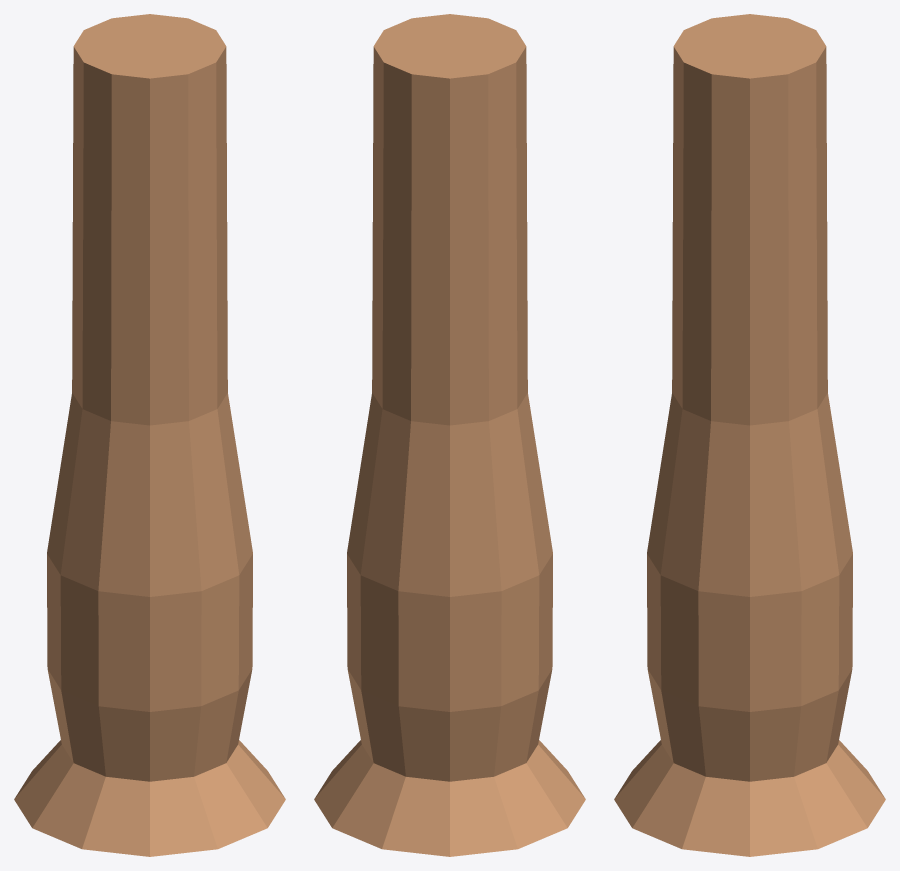
Rendered from pillar.fbx.
The picture shows the model from 3 angles, left to right: view 1: azimuth 30°, elevation 25°; view 2: azimuth 150°, elevation 25°; view 3: azimuth 270°, elevation 25°; orthographic projection.
Parts seen in each view (by area): view 1: Cylinder; view 2: Cylinder; view 3: Cylinder.
Boxes of the visible parts, x1=… form: Cylinder: x1=14, y1=14, x2=285, y2=856; Cylinder: x1=314, y1=14, x2=585, y2=856; Cylinder: x1=614, y1=14, x2=885, y2=856.
Bounding box in the file's own units: 309 × 943 × 309.
